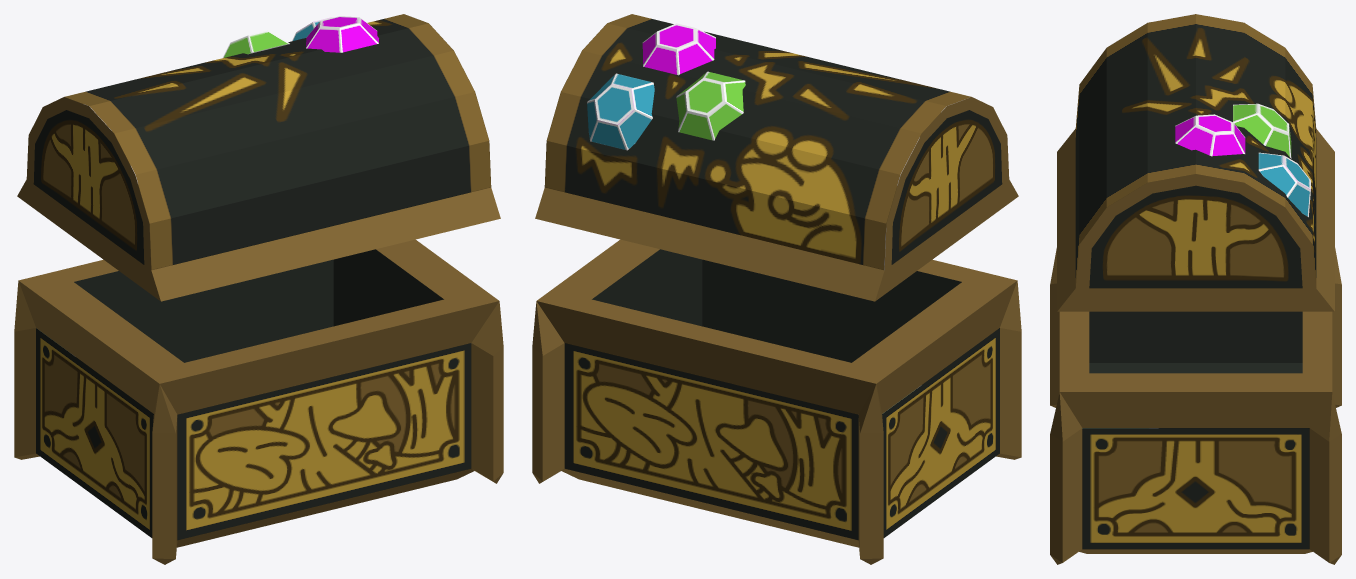
File: music_box.glb
3 views of the same model, side by side, from view 1: azimuth 30°, elevation 25°; view 2: azimuth 150°, elevation 25°; view 3: azimuth 270°, elevation 25° (orthographic). The views are drawn at different scales.
Visible parts, largest first — view 1: lid, box_faces, box_gold, box_inside, lid_gold, lid_gold_2, gem_pink, gem_green; view 2: lid, box_faces, box_gold, box_inside, lid_gold, gem_blue, gem_green, gem_pink, lid_gold_2; view 3: lid, box_gold, box_faces, box_inside, lid_gold, lid_gold_2, gem_pink, gem_green, gem_blue.
Boxes of the visible parts, bbox=[...] form: lid: bbox=[33, 14, 491, 270]; box_faces: bbox=[36, 328, 471, 540]; box_gold: bbox=[14, 239, 503, 564]; box_inside: bbox=[74, 249, 443, 362]; lid_gold: bbox=[17, 179, 500, 301]; lid_gold_2: bbox=[26, 97, 151, 269]; gem_pink: bbox=[306, 16, 378, 52]; gem_green: bbox=[223, 30, 289, 57]; lid: bbox=[544, 14, 1002, 270]; box_faces: bbox=[564, 328, 999, 540]; box_gold: bbox=[532, 239, 1021, 564]; box_inside: bbox=[592, 249, 961, 362]; lid_gold: bbox=[535, 179, 1018, 301]; gem_blue: bbox=[587, 73, 654, 150]; gem_green: bbox=[676, 71, 745, 140]; gem_pink: bbox=[642, 23, 715, 75]; lid_gold_2: bbox=[884, 97, 1009, 269]; lid: bbox=[1075, 14, 1316, 288]; box_gold: bbox=[1050, 248, 1341, 564]; box_faces: bbox=[1082, 428, 1309, 549]; box_inside: bbox=[1089, 311, 1302, 373]; lid_gold: bbox=[1057, 129, 1334, 311]; lid_gold_2: bbox=[1076, 174, 1315, 288]; gem_pink: bbox=[1175, 114, 1245, 156]; gem_green: bbox=[1233, 103, 1291, 158]; gem_blue: bbox=[1258, 152, 1310, 217].
Size of the model in its own units: 3.1 by 3.58 by 2.31.
Materials: 3 (1 with a texture image).
